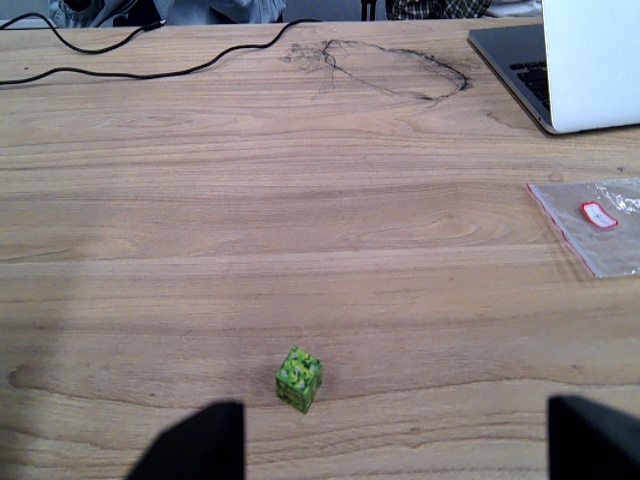grass: (275, 342, 326, 416)
